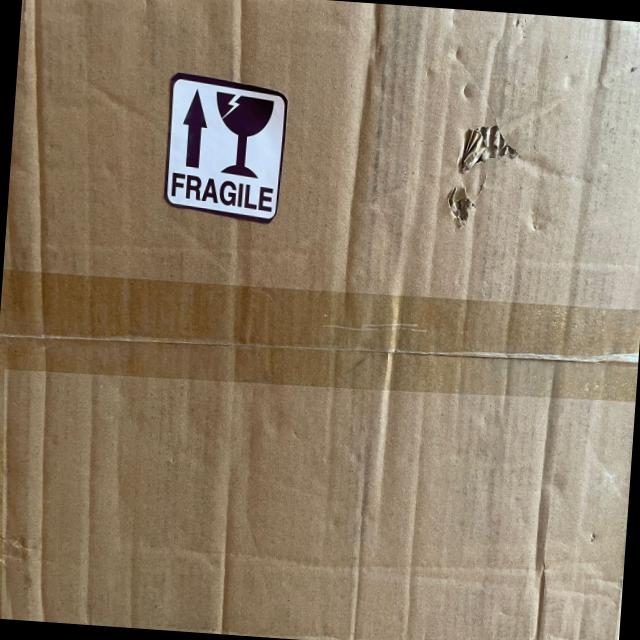carton_box: (0, 0, 640, 640)
fragile_label: (146, 65, 316, 254)
package_damage: (418, 80, 578, 270)
